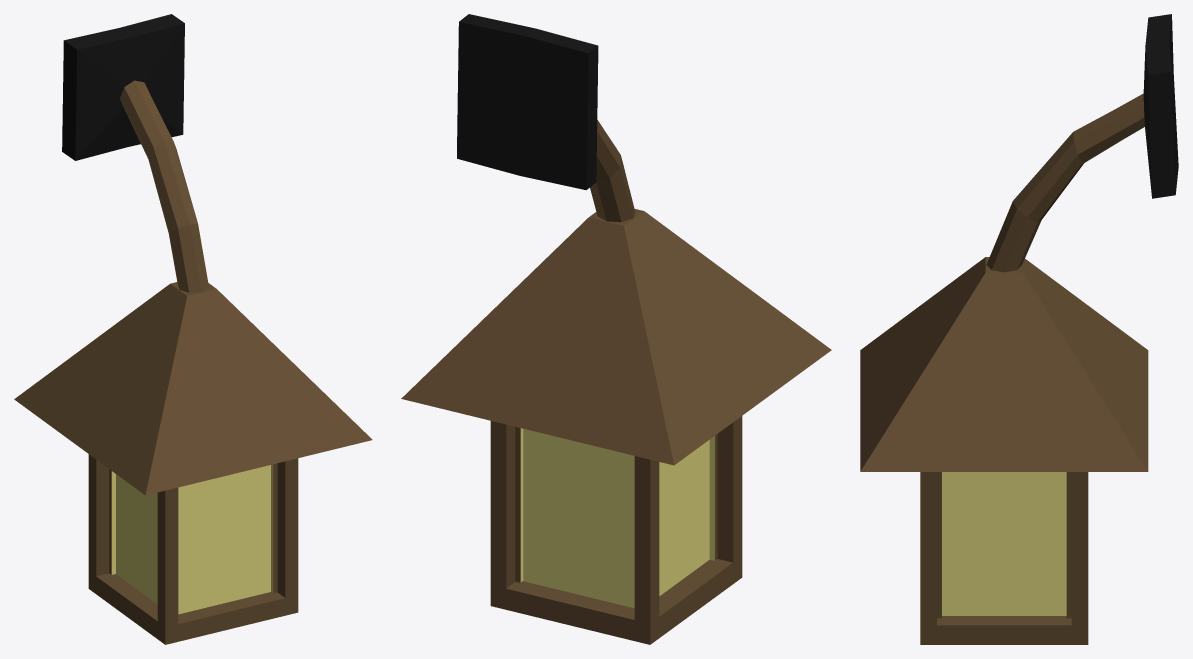
The model's file is Lantern.fbx.
The picture shows the model from 3 angles, left to right: view 1: azimuth 30°, elevation 25°; view 2: azimuth 150°, elevation 25°; view 3: azimuth 270°, elevation 25°; orthographic projection. The views are drawn at different scales.
Parts seen in each view (by area): view 1: Cube.041; view 2: Cube.041; view 3: Cube.041.
Boxes of the visible parts, bbox=[...] form: Cube.041: bbox=[14, 14, 372, 644]; Cube.041: bbox=[401, 14, 831, 644]; Cube.041: bbox=[860, 14, 1178, 644].
Size of the model in its own units: 126 by 274 by 139.
